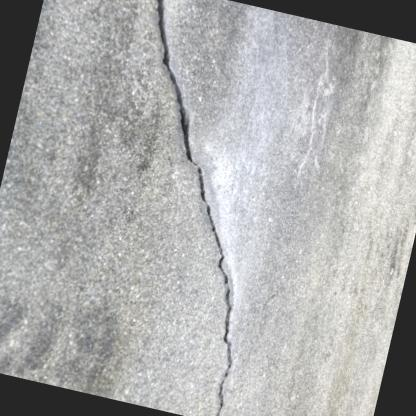crack: (156, 0, 232, 416)
